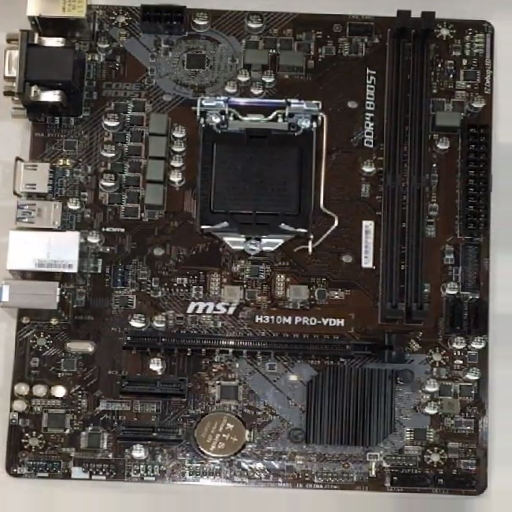CPU: (199, 96, 321, 256)
GPU: (124, 331, 408, 365)
MOTHERBOARD: (7, 10, 495, 497)
RAM: (378, 12, 437, 323)
